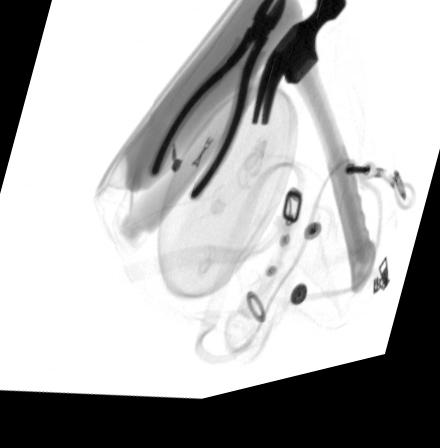Hammer: (251, 1, 378, 310)
Pliers: (147, 0, 286, 209)
